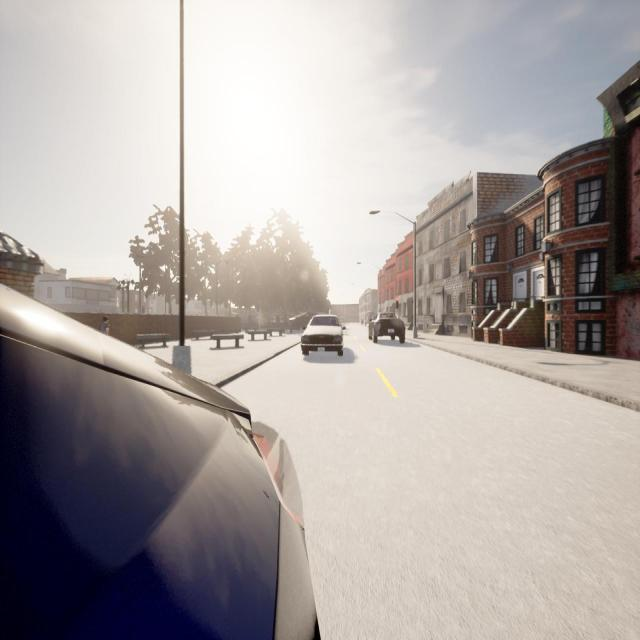Pedestrian: (98, 314, 110, 334)
Vehicle: (0, 281, 320, 640), (301, 314, 345, 356), (368, 312, 406, 344)
traffic_light: (396, 298, 399, 309)
